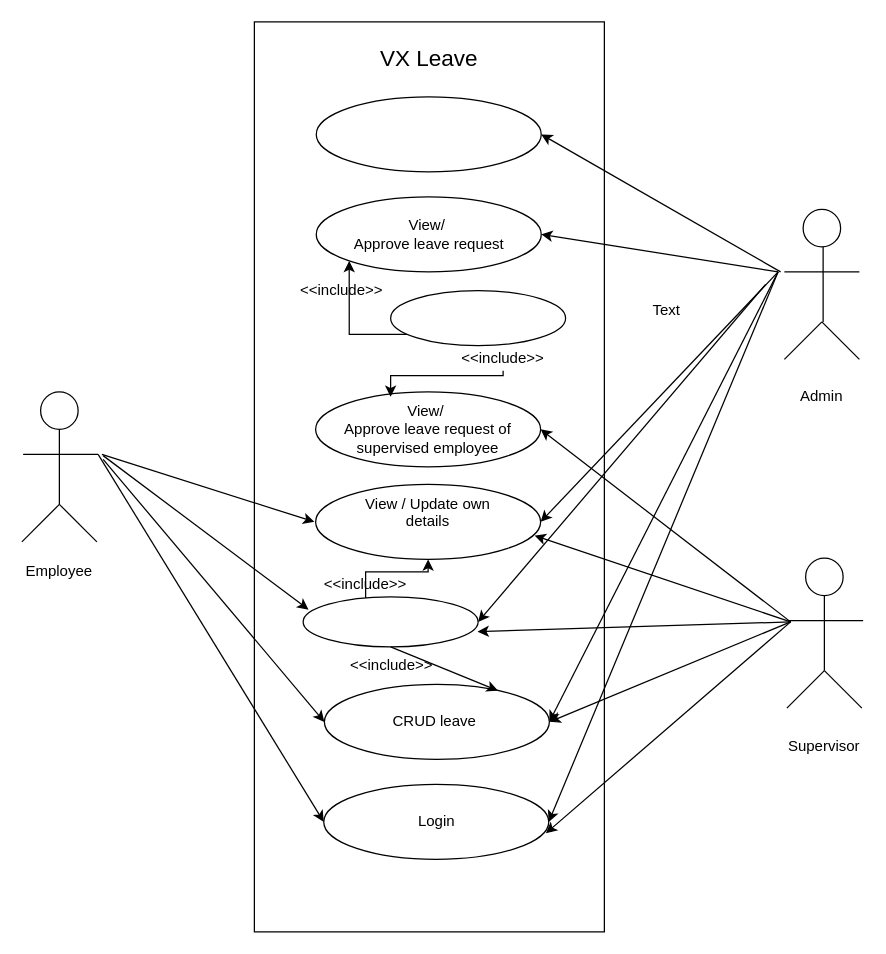
This 886x954 diagram has some shape labels left out. Each missing label, with the centre of its shape:
CRUD employee: (428,134)
Leave count: (390,621)
More Information: (477,317)
